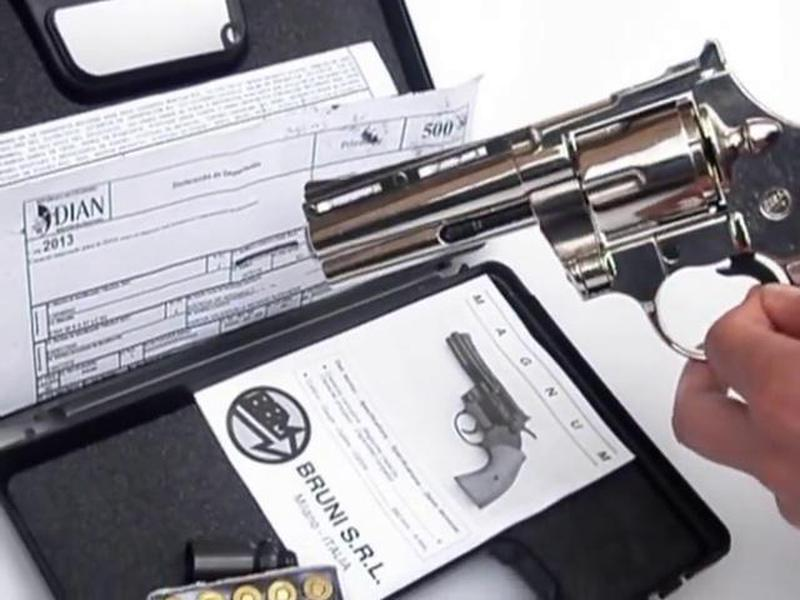Revolver: (285, 35, 800, 378)
